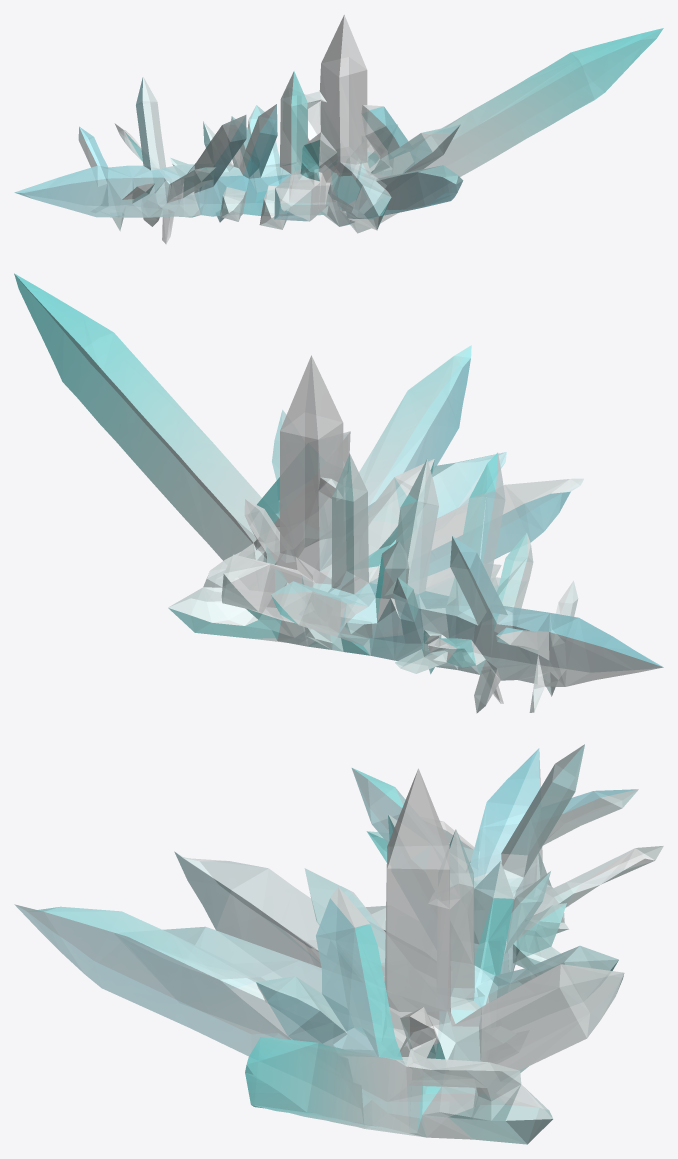
The model's file is VoidDiamond_Crystal3.glb.
The picture shows the model from 3 angles, top to bottom: view 1: azimuth 30°, elevation 25°; view 2: azimuth 150°, elevation 25°; view 3: azimuth 270°, elevation 25°; orthographic projection. The views are drawn at different scales.
Visible parts, largest first — view 1: Crystal 3; view 2: Crystal 3; view 3: Crystal 3.
Boxes of the visible parts, left/top/right/bottom form: Crystal 3: left=14, top=15, right=663, bottom=244; Crystal 3: left=14, top=273, right=663, bottom=713; Crystal 3: left=14, top=744, right=663, bottom=1144.
Bounding box in the file's own units: 4.15 × 1.5 × 2.43.
Materials: 1 (1 with a texture image).
